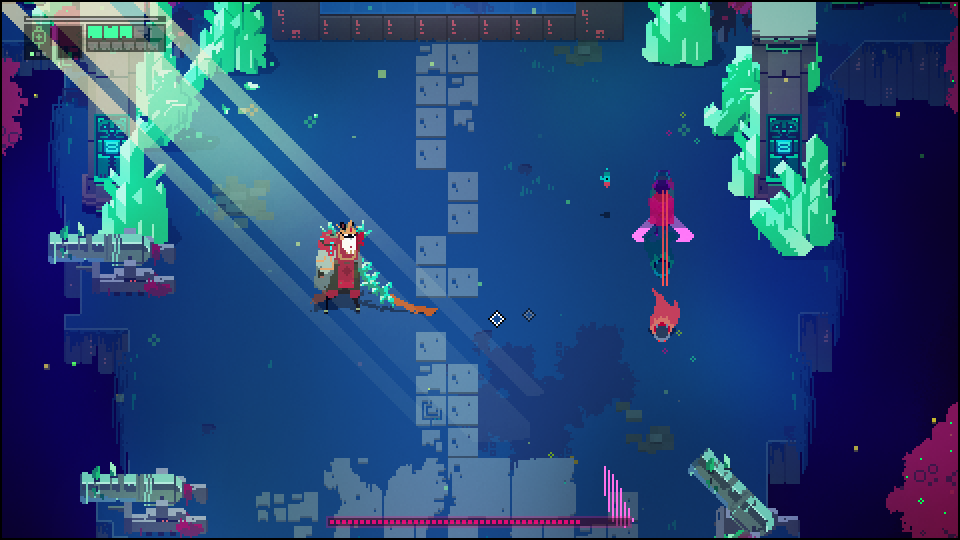hanged_man: (310, 213, 406, 323)
player: (647, 291, 680, 346)
